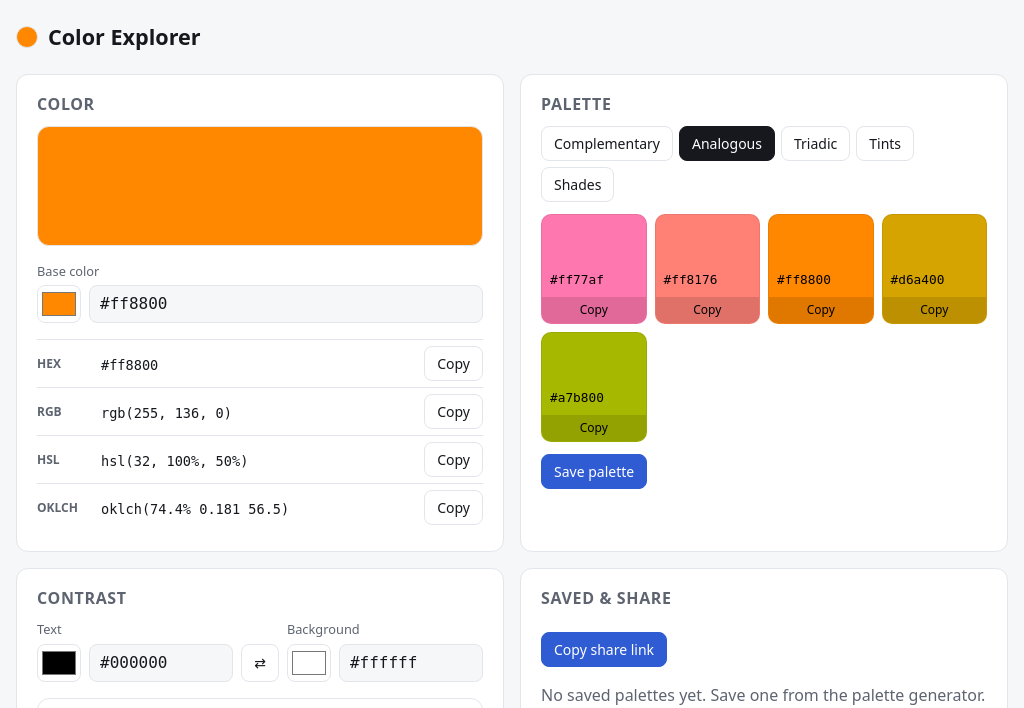
Test case: App › flags invalid input without losing the last valid color
Replace the text in the field labelled "Base color" with "nope". click: (286, 304)
box: [89,285,483,323]
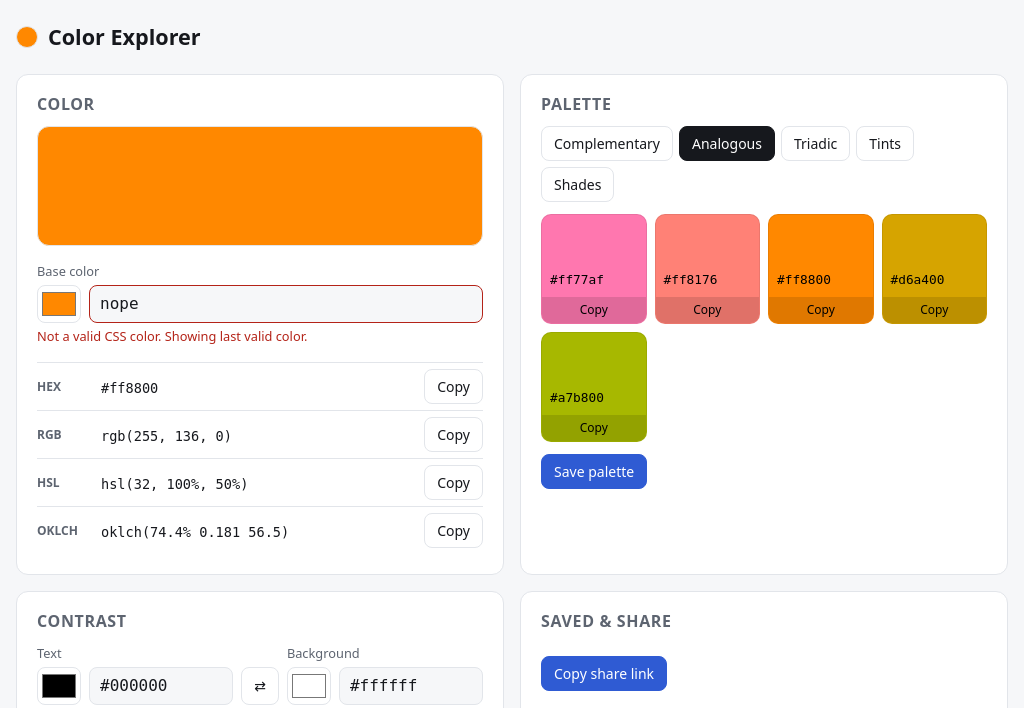
Result: the text "Not a valid CSS color. Showing last valid color." is shown at [37,327,307,345]
